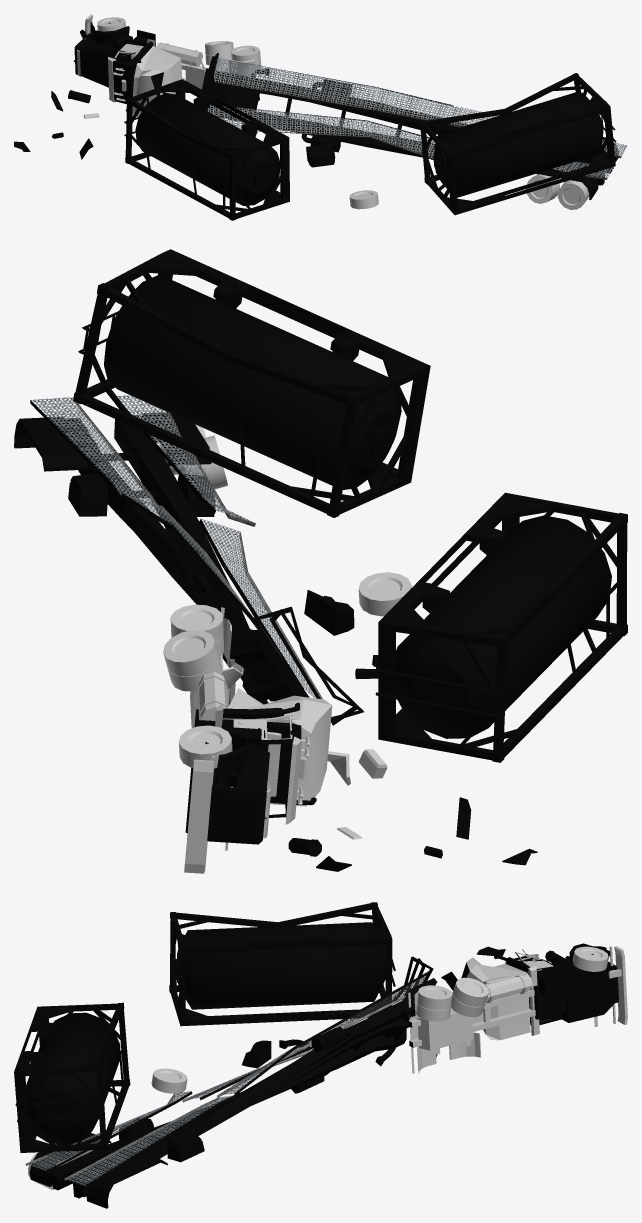
Rendered from Model_Trucks_Crashed_Transport.fbx.
3 renders of one model, top to bottom at view 1: azimuth 30°, elevation 25°; view 2: azimuth 150°, elevation 25°; view 3: azimuth 270°, elevation 25°, orthographic. The views are drawn at different scales.
Parts seen in each view (by area): view 1: Crashed_Truck; view 2: Crashed_Truck; view 3: Crashed_Truck.
Boxes of the visible parts, x1,y1,x2,y2 form: Crashed_Truck: [14, 14, 626, 220]; Crashed_Truck: [14, 249, 627, 873]; Crashed_Truck: [14, 902, 627, 1208].
Bounding box in the file's own units: 2342 × 565 × 2345.
